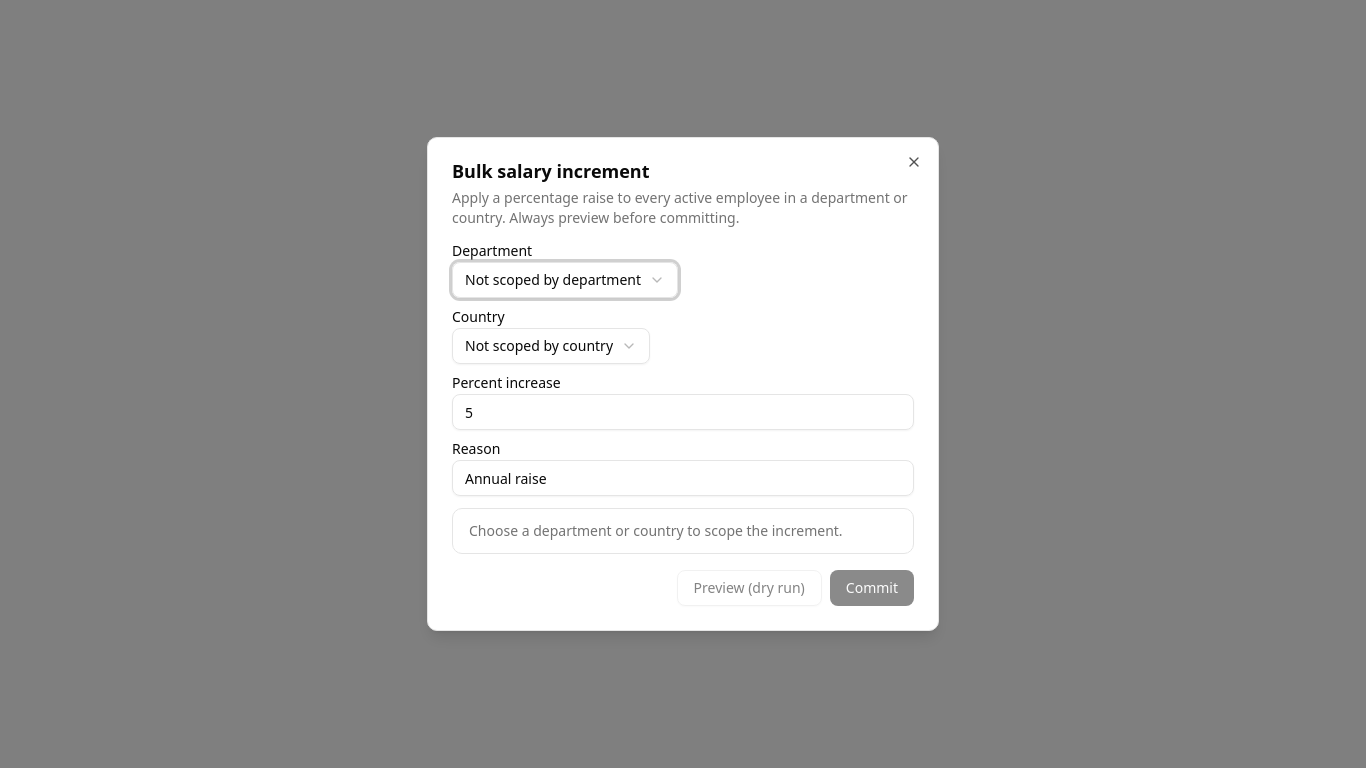
Test: BulkIncrementDialog › commits after a preview and shows the applied state
The width and height of the screenshot is (1366, 768).
What coordinates should you click on to do the following:
click the dropdown "Not scoped by department"
I would click on:
 (565, 280)
Its box is x1=452 y1=262 x2=678 y2=298.
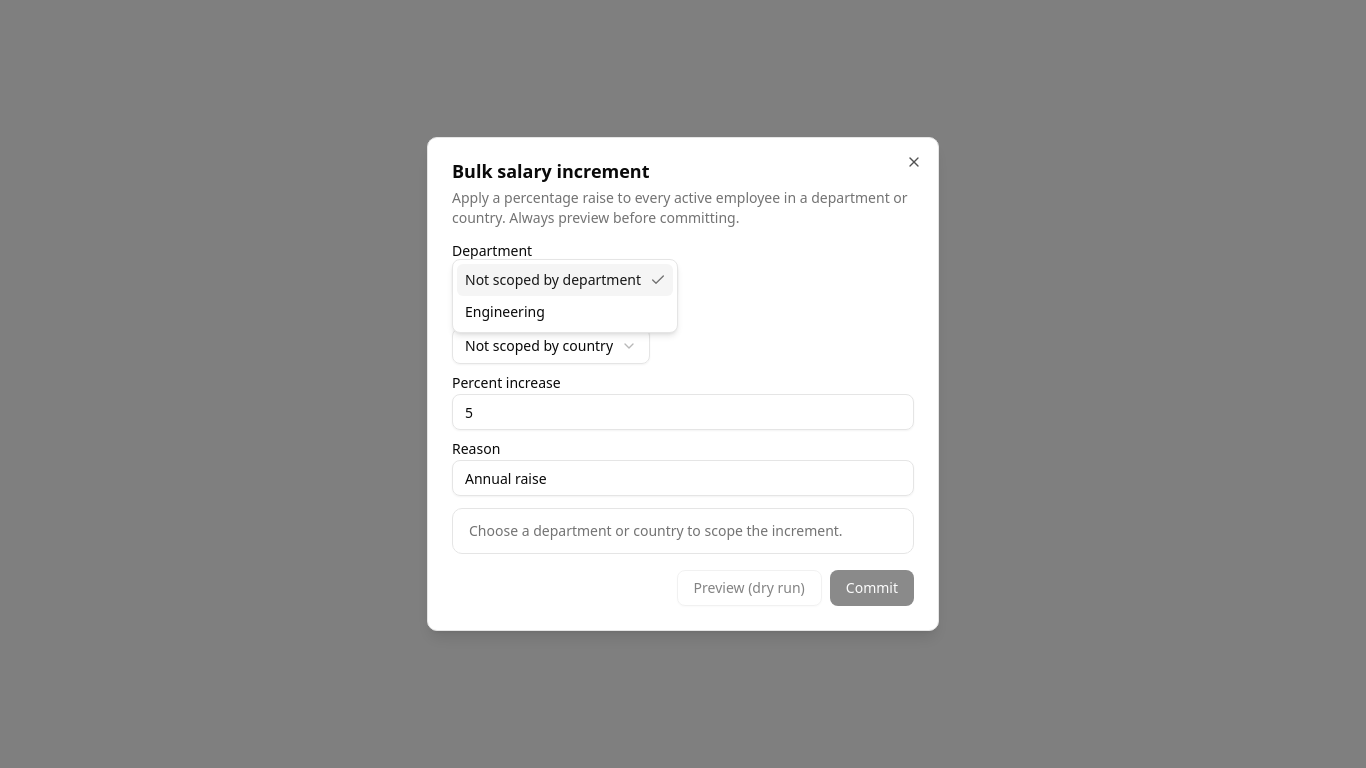
What coordinates should you click on to do the following:
click the option "Engineering"
I would click on:
 (505, 312)
Its box is x1=465 y1=302 x2=545 y2=321.
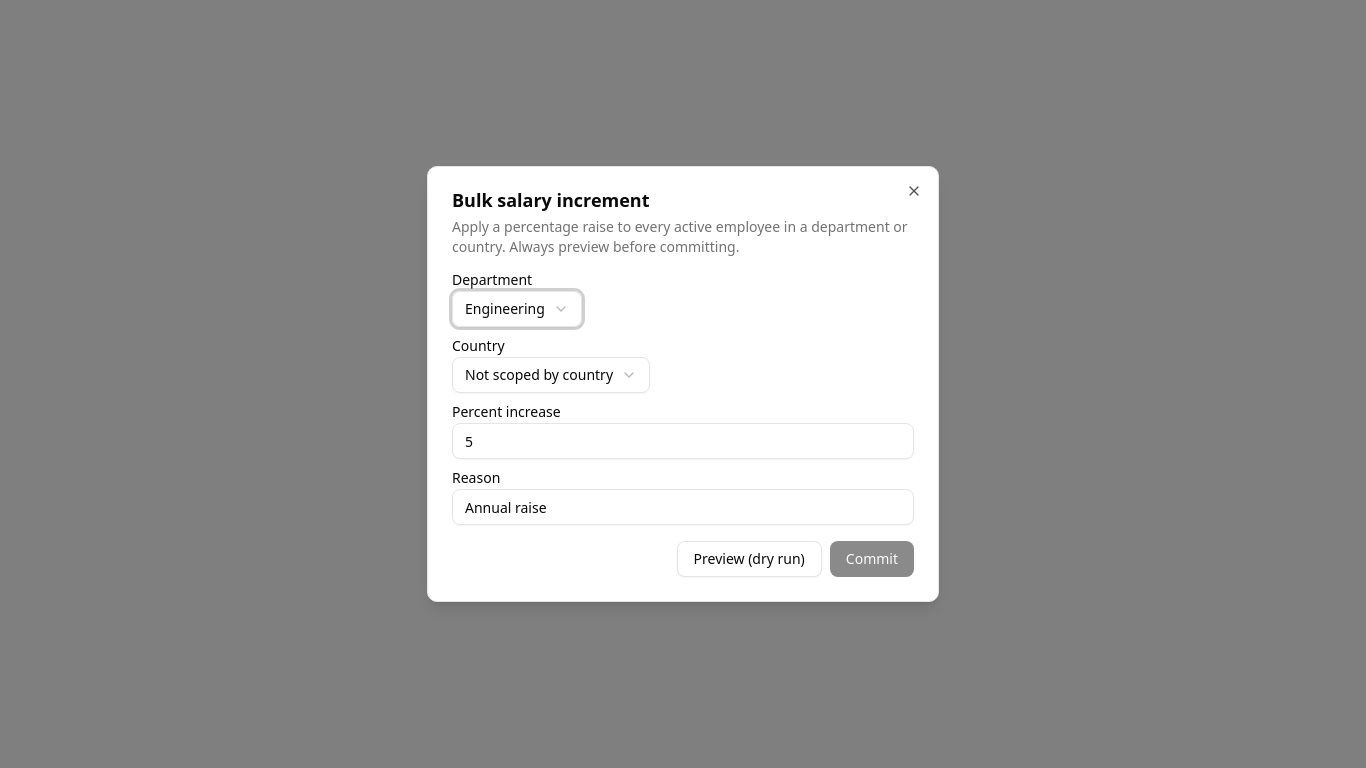
What coordinates should you click on to do the following:
click the button "Preview (dry run)"
I would click on:
 (749, 559)
Its box is x1=677 y1=541 x2=822 y2=577.
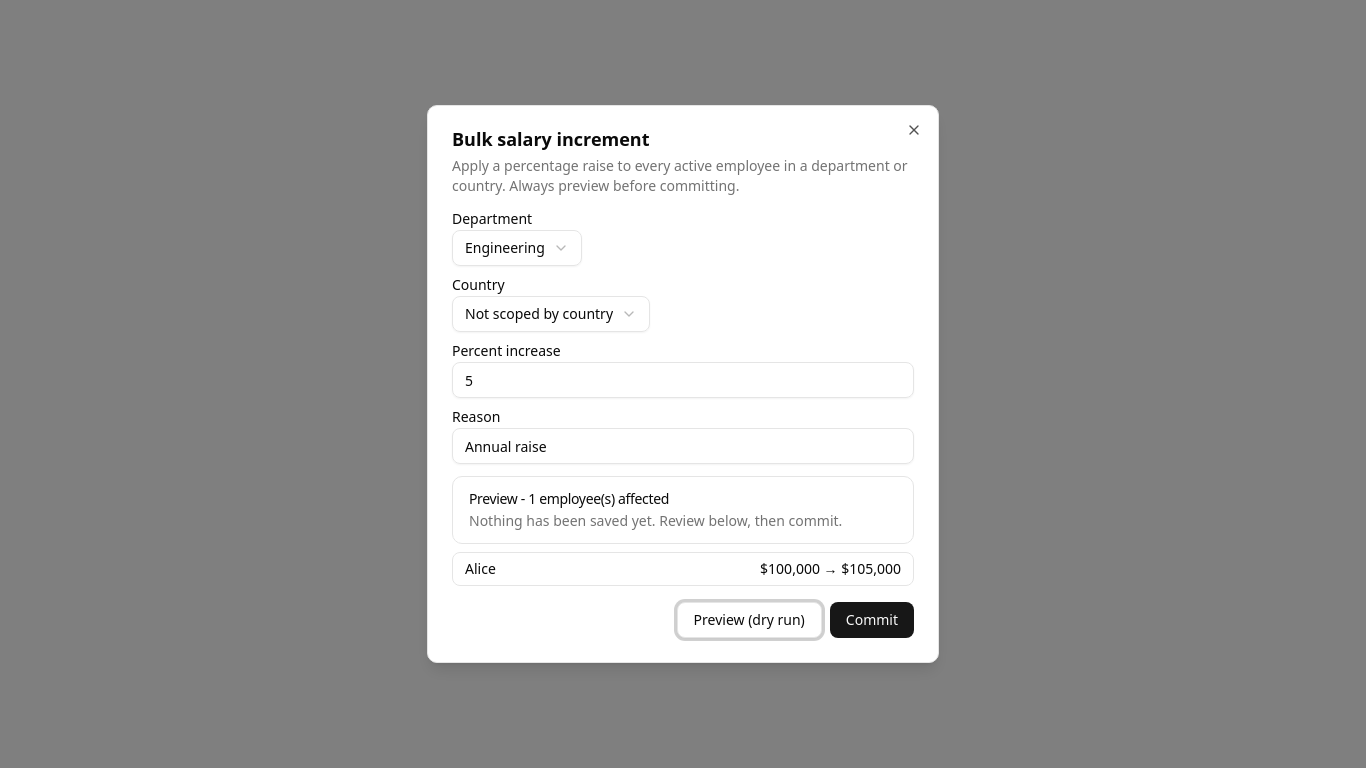
Expected: the text "Preview - 1 employee(s) affected" is shown, x1=469 y1=489 x2=669 y2=508
What coordinates should you click on to do the following:
click the button "Commit"
I would click on:
 (872, 620)
Its box is x1=830 y1=602 x2=914 y2=638.
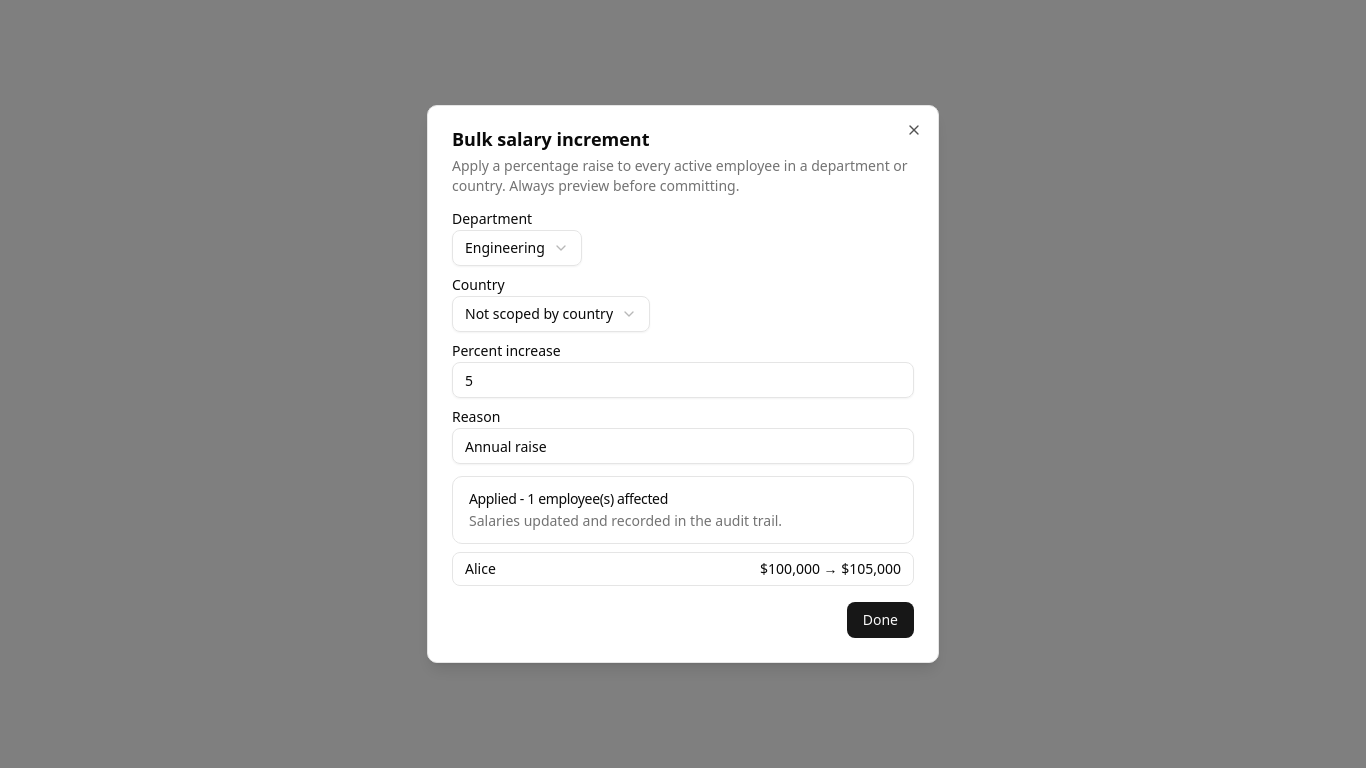
Expected: the text "Applied - 1 employee(s) affected" is shown, x1=469 y1=489 x2=668 y2=508
